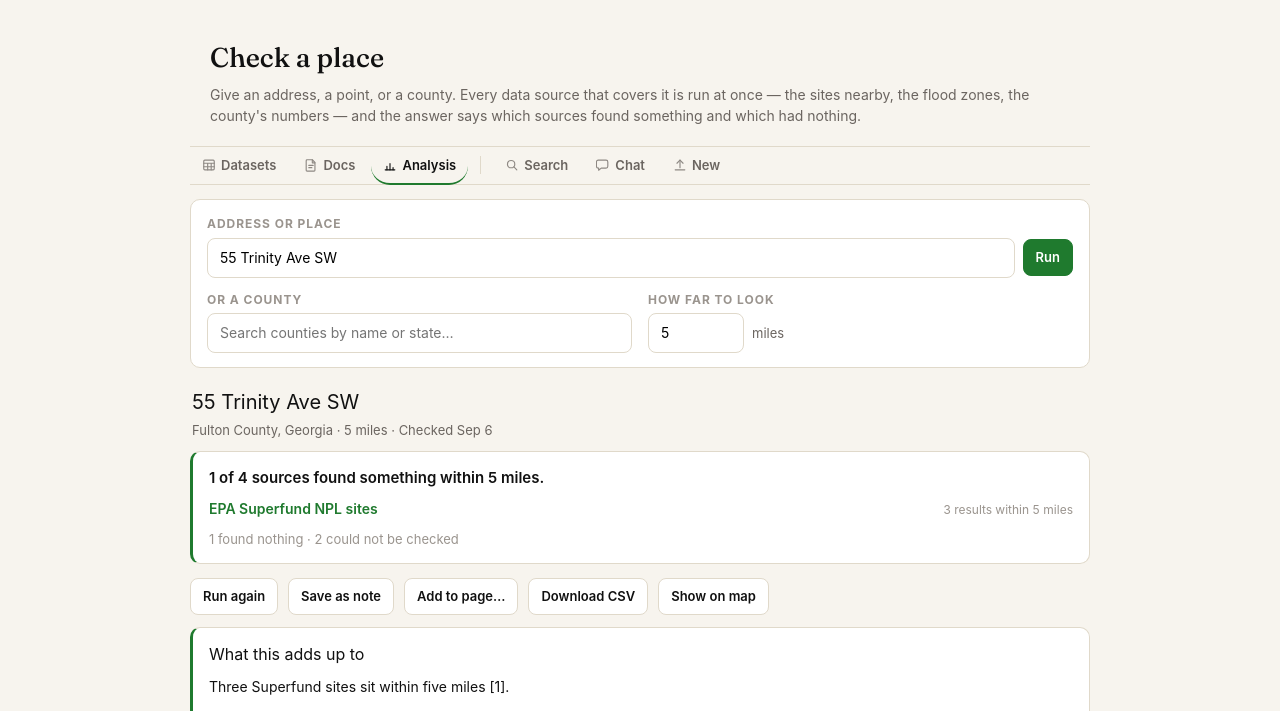
the actions › adds the report to a page picked from the list
The image size is (1280, 711).
What coordinates should you click on to do the following:
click the button with test id "place-add-to-page"
I would click on:
 (461, 597)
Its box is x1=404 y1=578 x2=518 y2=615.
(page scrolled)
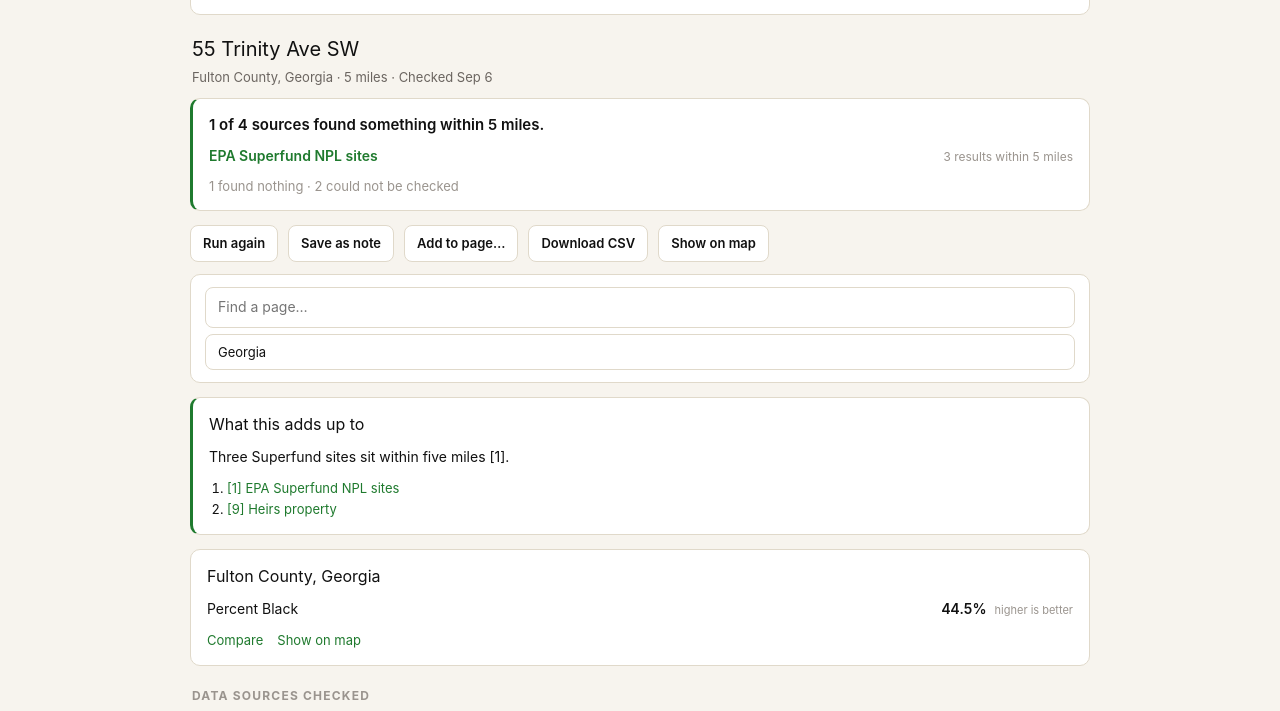
What coordinates should you click on to do the following:
click the button with test id "place-page-option"
I would click on:
 (242, 352)
Its box is x1=206 y1=335 x2=1074 y2=369.
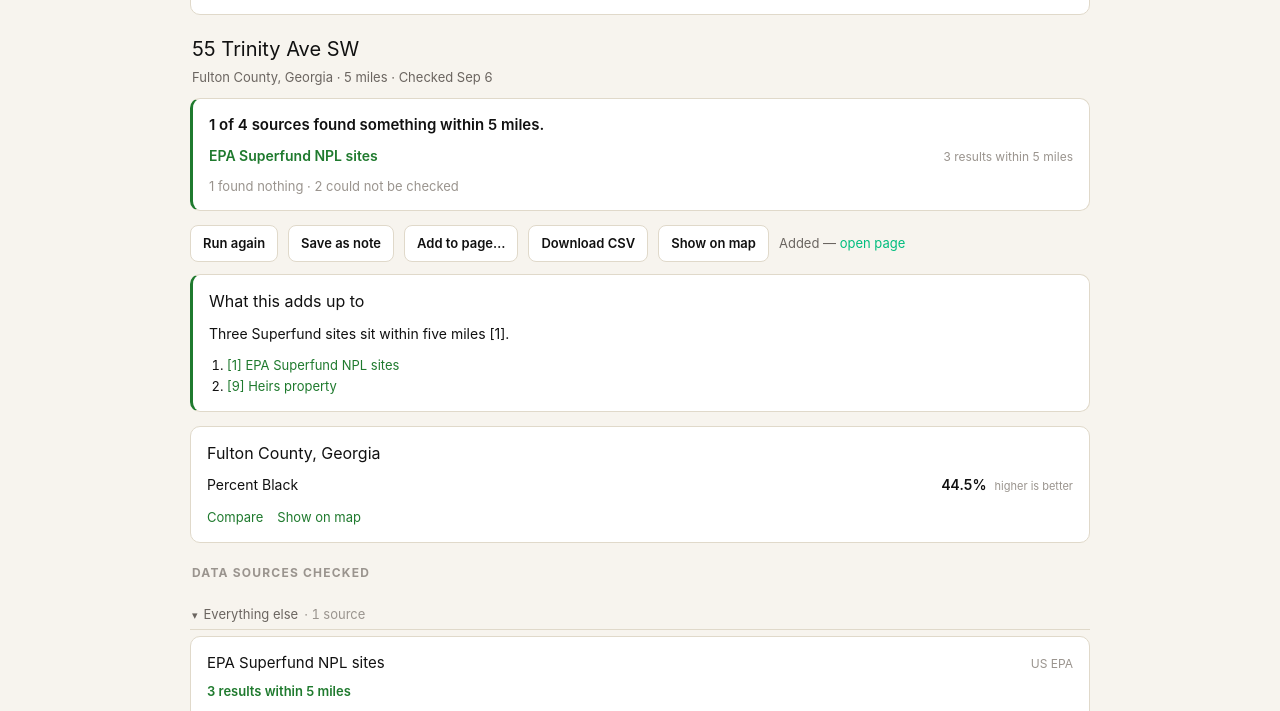
Check: the element with test id "place-page-added" shows "Added", box x1=779 y1=236 x2=840 y2=252
